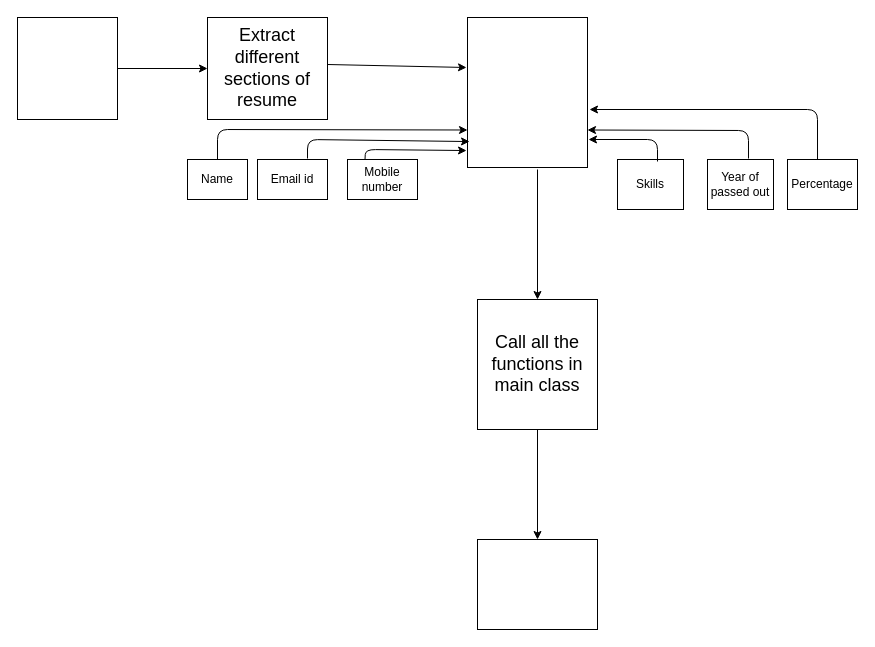
Some shapes in this 875 by 647 pixel diagram are drawn without their labels. The box of each missing label's shape, as (x1, y1, x2, y2) in pixels:
Format resume model as Json: (476, 538, 598, 630)
Parse each section individually into functions: (466, 16, 588, 168)
Read Resumes: (16, 16, 118, 120)
